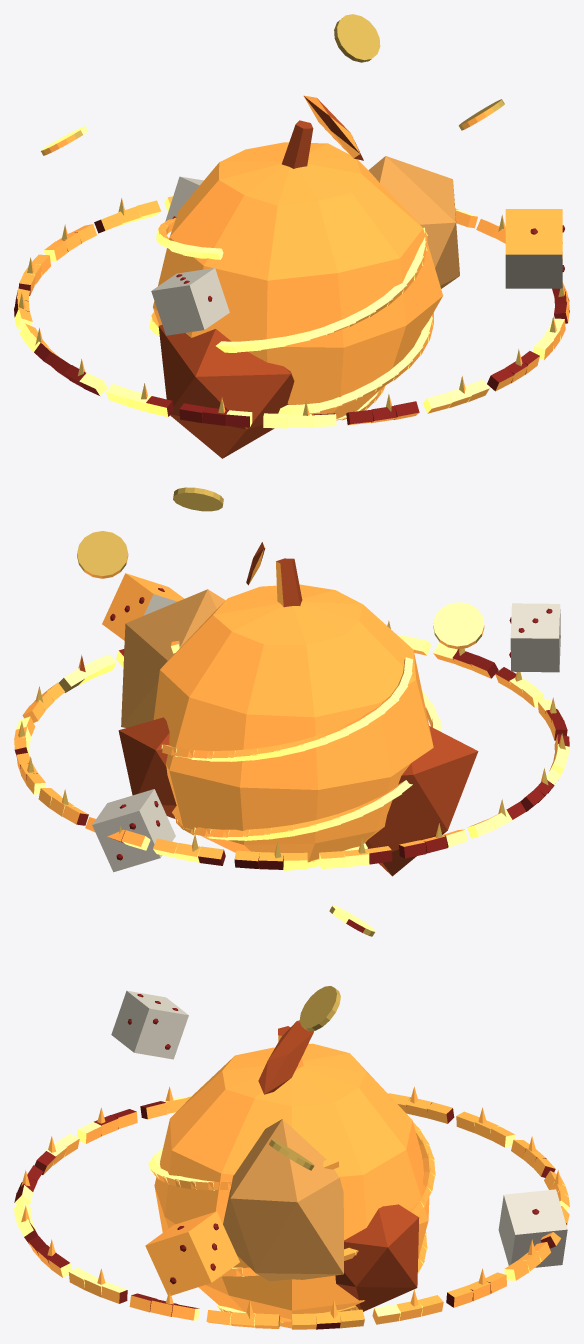
File: fruto-inconstancia.glb
3 renders of one model, top to bottom at view 1: azimuth 30°, elevation 25°; view 2: azimuth 150°, elevation 25°; view 3: azimuth 270°, elevation 25°, orthographic.
Parts seen in each view (by area): view 1: Fruit_Body; view 2: Fruit_Body; view 3: Fruit_Body.
Part boxes in pixels (x1=…): Fruit_Body: x1=14, y1=14, x2=569, y2=458; Fruit_Body: x1=14, y1=487, x2=569, y2=876; Fruit_Body: x1=14, y1=905, x2=569, y2=1329.
Size of the model in its own units: 1.96 by 1.46 by 1.96.
